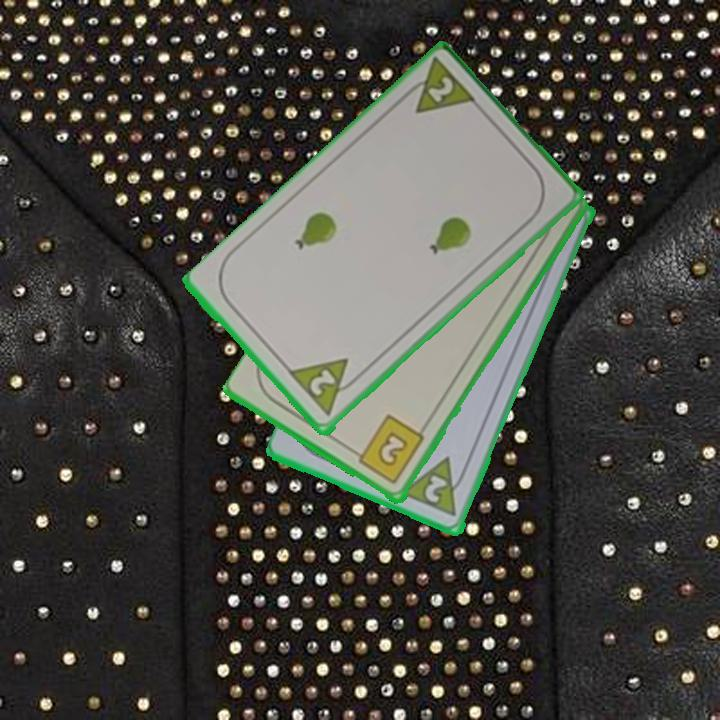2b: (348, 412, 428, 488)
2p: (397, 56, 480, 118), (399, 453, 472, 521), (306, 366, 339, 400)
